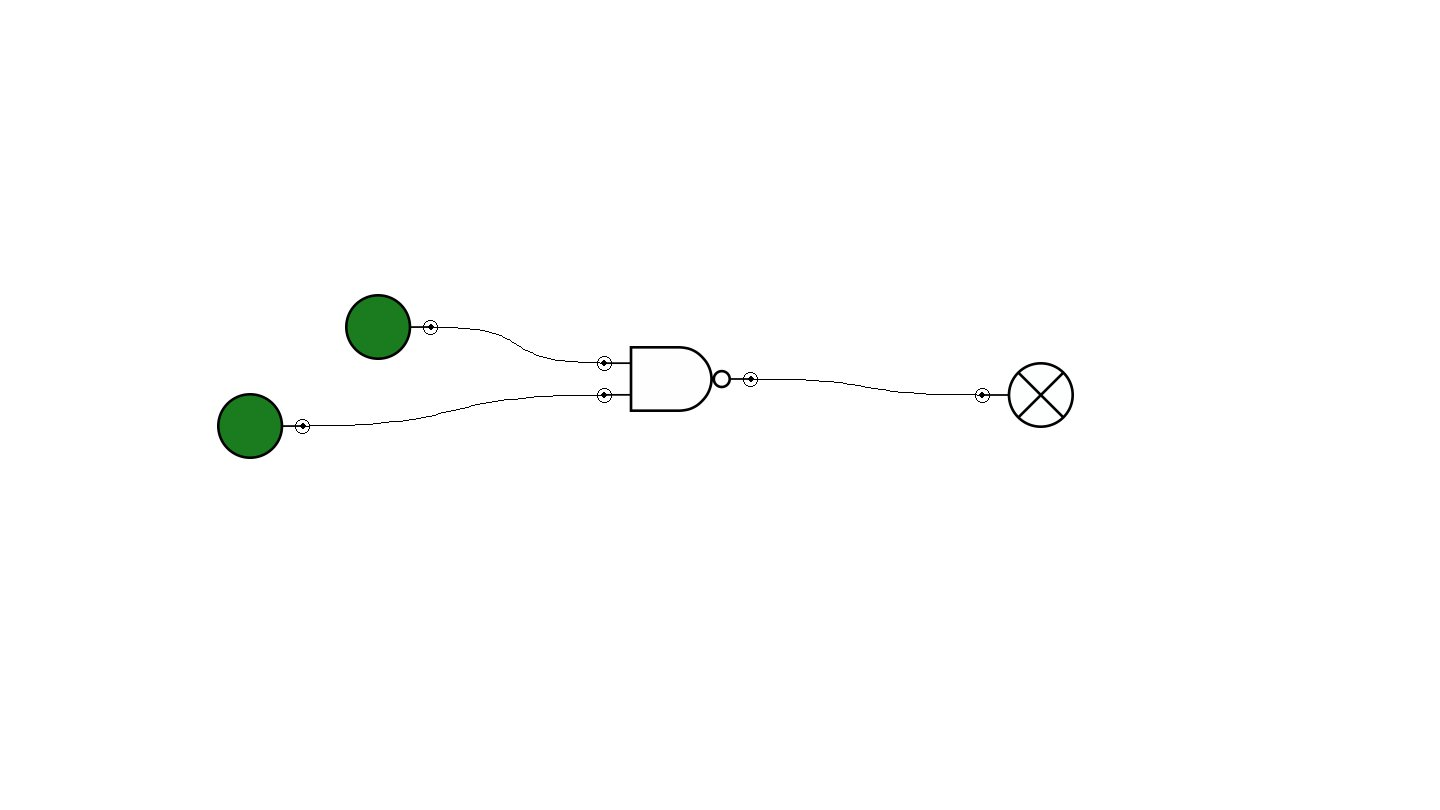bulb: (975, 362, 1074, 428)
nand: (597, 346, 758, 412)
switch_True: (345, 294, 438, 360), (217, 393, 310, 459)
